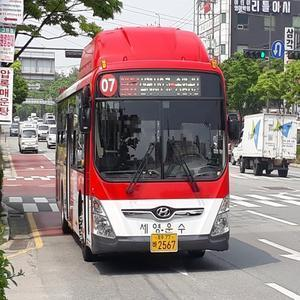07bus: (52, 34, 241, 262)
